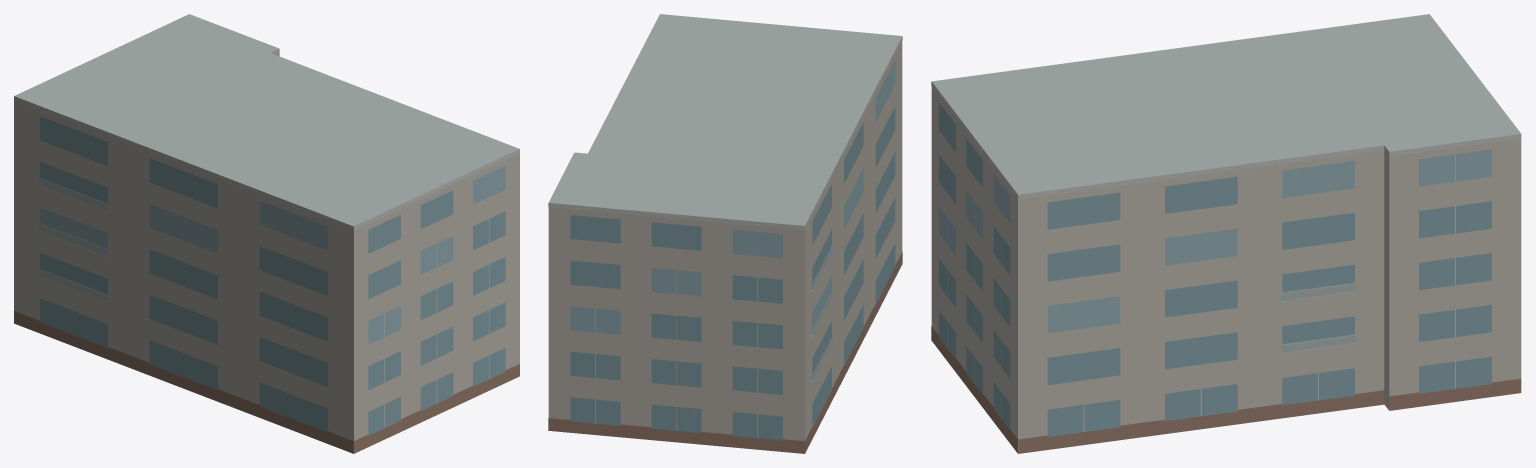
The model's file is survey-upis-33002178.glb.
3 views of the same model, side by side, from view 1: azimuth 30°, elevation 25°; view 2: azimuth 150°, elevation 25°; view 3: azimuth 270°, elevation 25° (orthographic). The views are drawn at different scales.
Parts seen in each view (by area): view 1: survey-upis-33002178.tmp; view 2: survey-upis-33002178.tmp; view 3: survey-upis-33002178.tmp.
Part boxes in pixels (x1,y1,x2,y2): survey-upis-33002178.tmp: [14, 14, 519, 453]; survey-upis-33002178.tmp: [548, 14, 902, 453]; survey-upis-33002178.tmp: [931, 14, 1521, 453].
Bounding box in the file's own units: 19.61 × 13.1 × 27.04.
